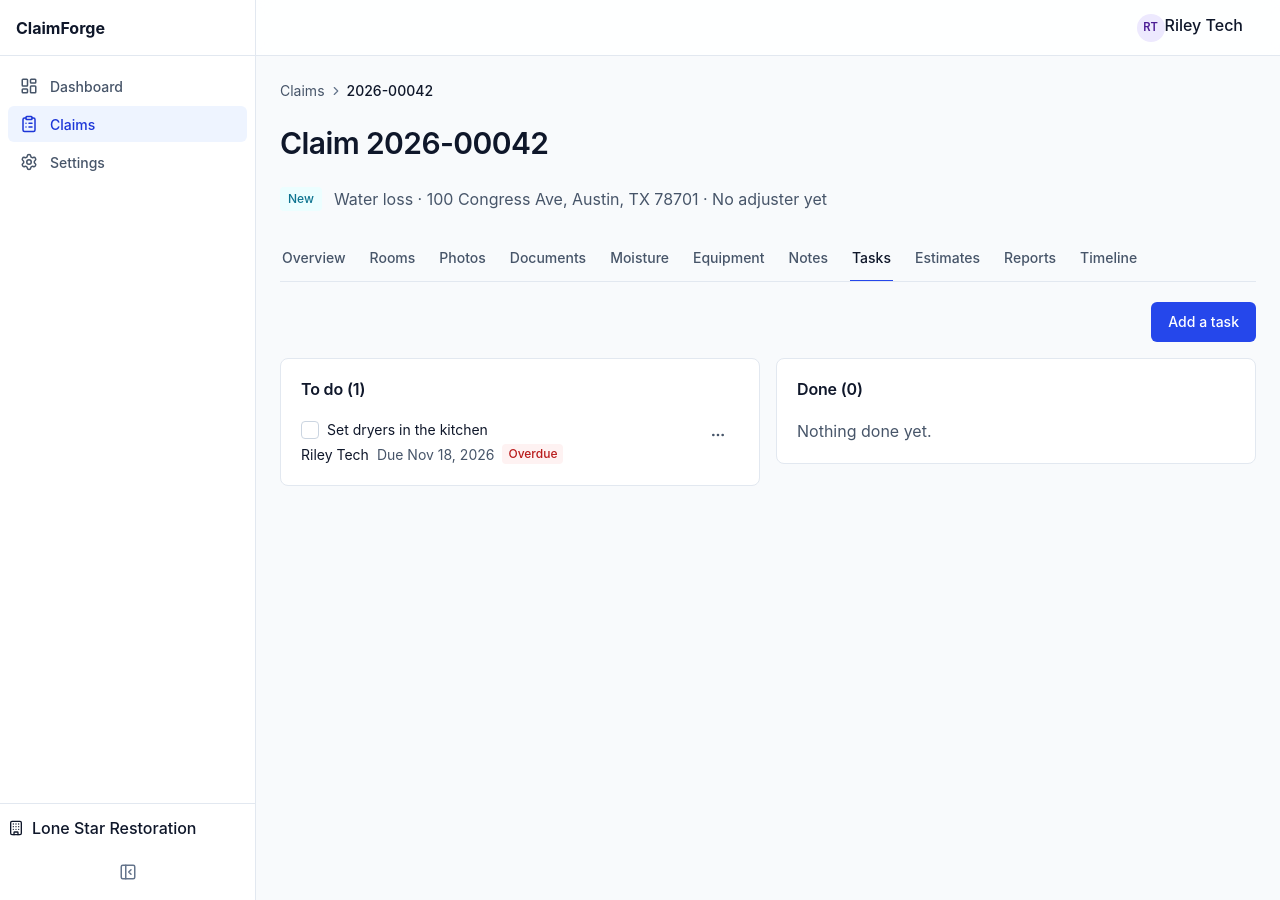
Test case: who can do what › a technician who didn't add a task can tick and edit it, not delete it
The width and height of the screenshot is (1280, 900).
Click the button named "Change \"Set dryers in the kitchen\"".
click(718, 434)  # box [697, 418, 739, 450]
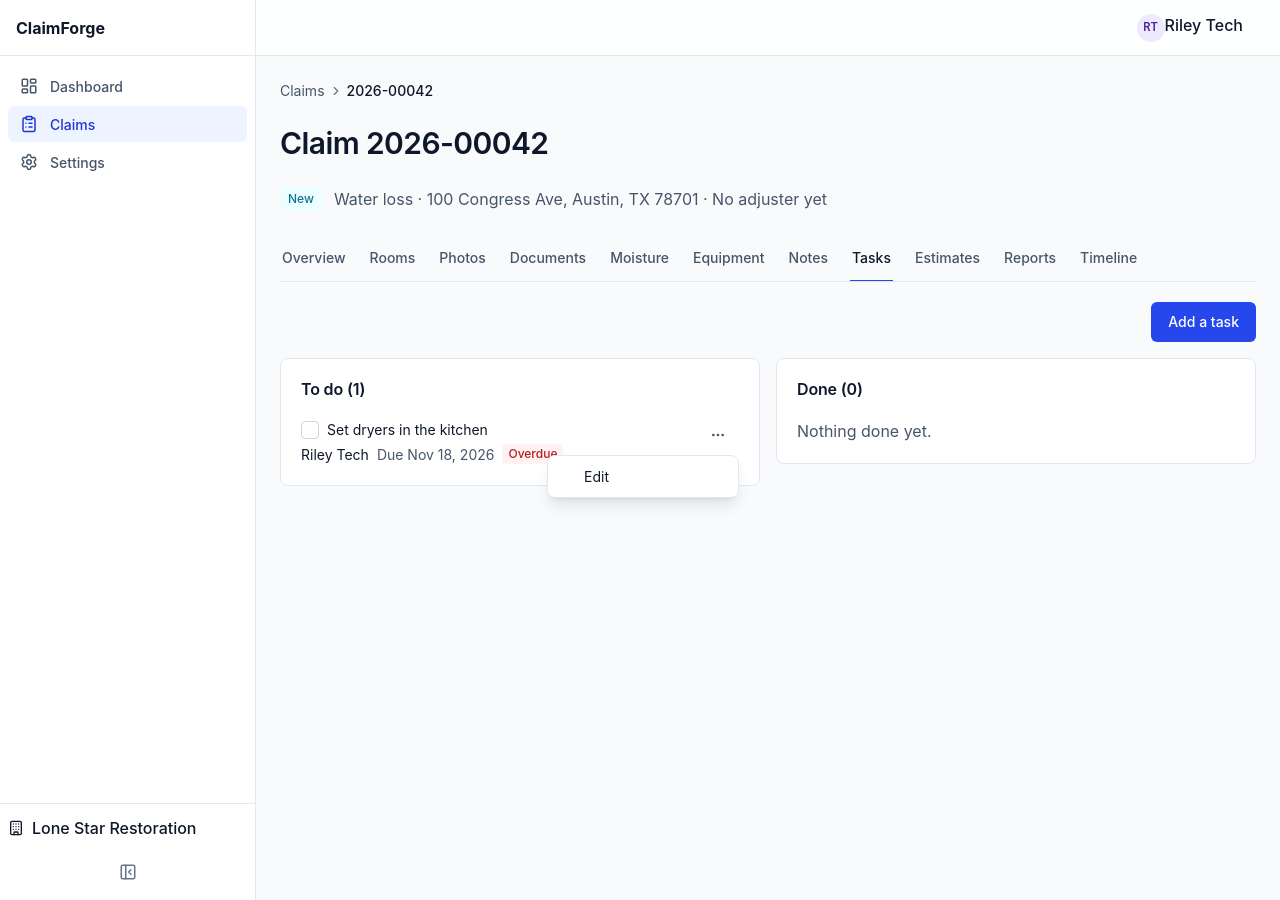
Expected: the menu items read "Edit", in this order, [584, 468, 609, 485]
